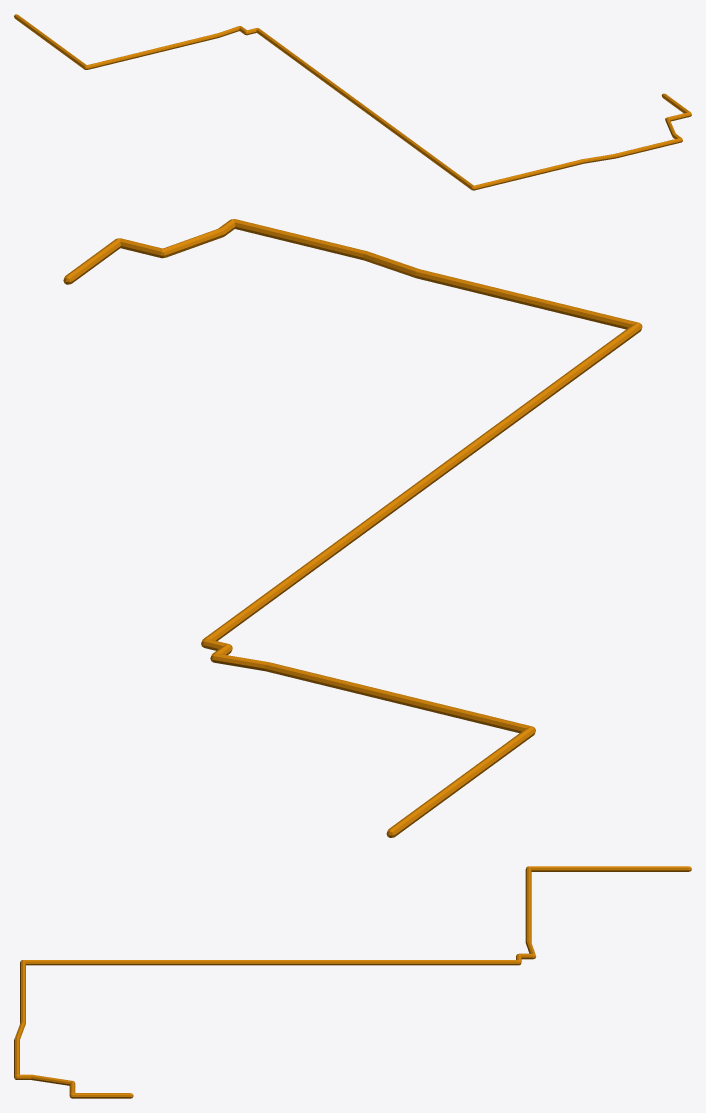
3 views of the same model, one above another, from view 1: azimuth 30°, elevation 25°; view 2: azimuth 150°, elevation 25°; view 3: azimuth 270°, elevation 25° (orthographic). The views are drawn at different scales.
Size of the model in its own units: 1860 by 20 by 2324.
